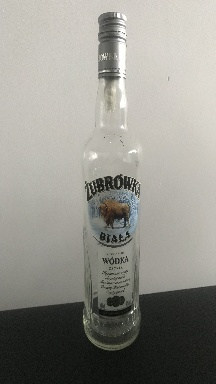butelka: (81, 8, 143, 353)
